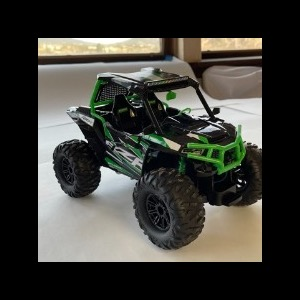polaris: (51, 66, 262, 251)
